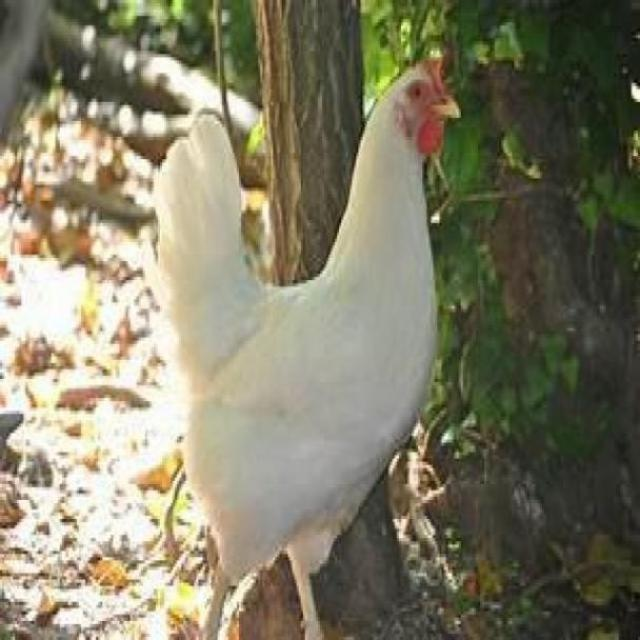Chicken: (153, 50, 461, 640)
